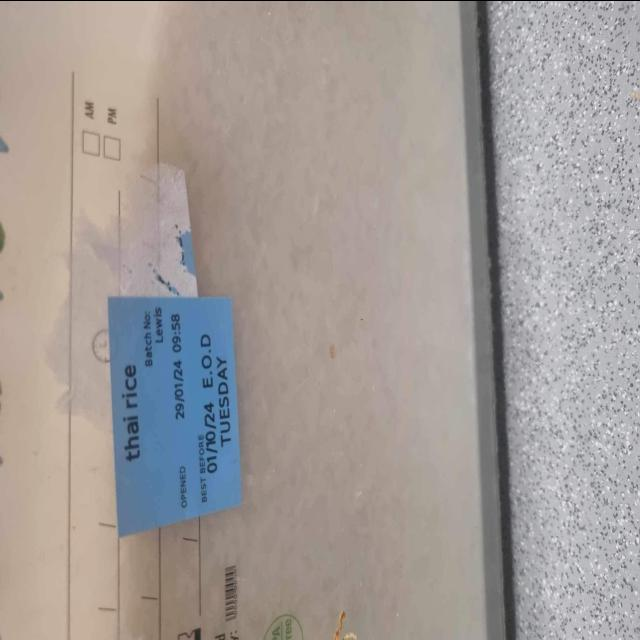product-labels: (105, 290, 244, 533)
